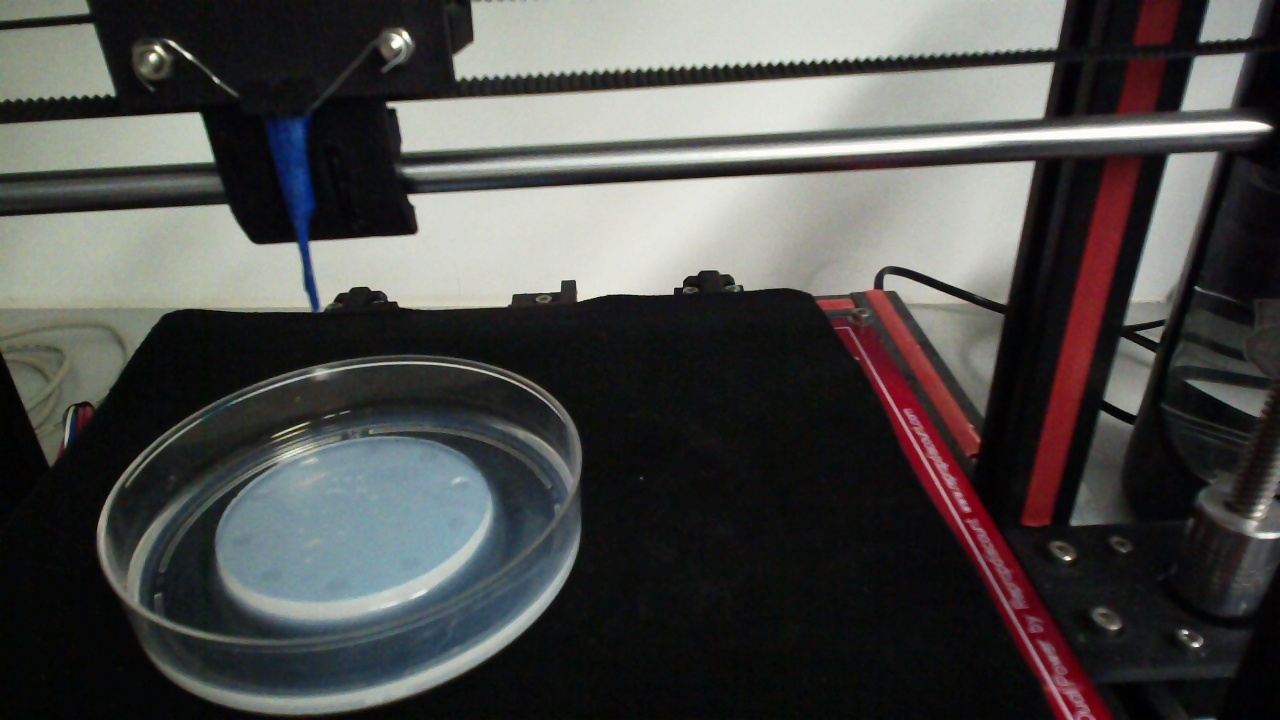groove: (397, 553, 421, 571), (322, 578, 346, 594), (259, 567, 281, 583), (230, 533, 253, 548), (450, 477, 471, 492), (445, 517, 465, 532), (418, 449, 438, 464), (367, 440, 387, 455), (246, 489, 268, 502), (299, 458, 319, 469)
needle: (264, 119, 317, 316)
